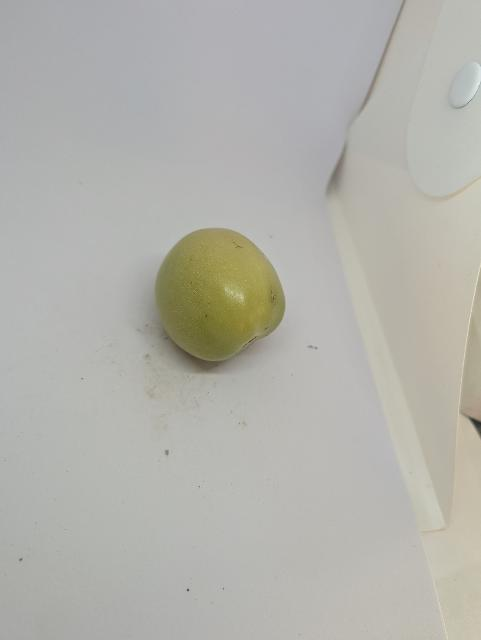green: (154, 225, 289, 363)
